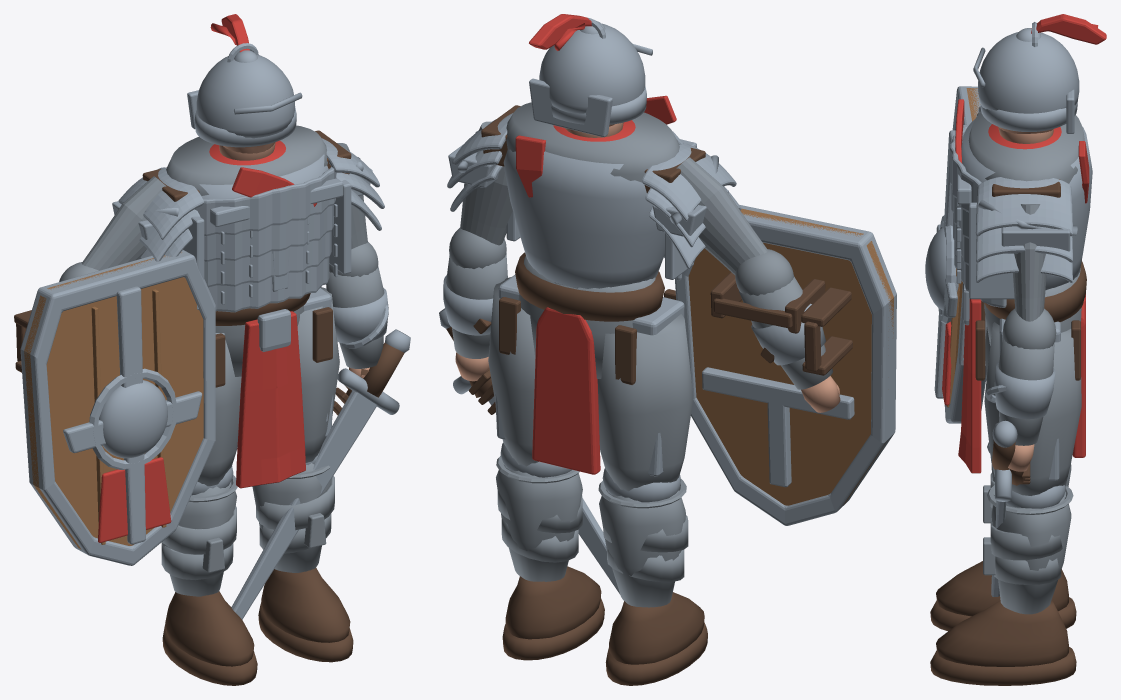
Rendered from SK_Infantry_A_v004_P035R3_L1Pose_Review.fbx.
3 views of the same model, side by side, from view 1: azimuth 30°, elevation 25°; view 2: azimuth 150°, elevation 25°; view 3: azimuth 270°, elevation 25° (orthographic). The views are drawn at different scales.
Visible parts, largest first — view 1: Shield, Shield_Rim, GEO_Infantry_WaistCloth_Front_P03R1, Helmet, Boot_R, Boot_L, Sword, Body_Base, Shield_Boss, ChestArmor_Lamellar_4, Shield_Reinforcement_V, Thigh_R (+40 smaller); view 2: Shield, ChestArmor, Shield_Rim, Thigh_L, WaistCloth_Rear_P02R1, Helmet, Calf_L, Body_Base, Calf_R, Thigh_R, Boot_R, Boot_L (+38 smaller); view 3: Helmet, Boot_R, Thigh_R, Body_Base, Calf_R, ShoulderArmor_R_1, BootSole_R, GEO_Infantry_WaistCloth_Front_P03R1, Boot_L, ChestArmor, Forearm_R, UpperArm_R (+45 smaller).
Boxes of the visible parts, x1,y1,x2,y2 form: Shield: (24,252,203,549); Shield_Rim: (20,250,215,565); GEO_Infantry_WaistCloth_Front_P03R1: (236,311,305,488); Helmet: (196,55,294,138); Boot_R: (261,568,350,642); Boot_L: (165,591,254,666); Sword: (231,390,377,619); Body_Base: (166,125,327,195); Shield_Boss: (99,380,167,458); ChestArmor_Lamellar_4: (195,167,336,236); Shield_Reinforcement_V: (116,286,145,544); Thigh_R: (297,287,339,462); Shield: (688,208,893,505); ChestArmor: (503,137,676,288); Shield_Rim: (675,205,896,525); Thigh_L: (597,314,693,491); WaistCloth_Rear_P02R1: (532,307,600,474); Helmet: (539,23,645,113); Calf_L: (599,489,685,607); Body_Base: (506,102,679,288); Calf_R: (496,465,582,581); Thigh_R: (488,277,538,466); Boot_R: (505,566,601,639); Boot_L: (609,592,704,664); Helmet: (978,32,1079,113); Boot_R: (936,600,1068,666); Thigh_R: (984,322,1081,495); Body_Base: (968,112,1084,183); Calf_R: (991,491,1071,614); ShoulderArmor_R_1: (975,177,1073,236); BootSole_R: (930,647,1076,685); GEO_Infantry_WaistCloth_Front_P03R1: (958,299,981,473); Boot_L: (936,561,1068,616); ChestArmor: (961,119,1092,290); Forearm_R: (998,337,1054,445); UpperArm_R: (1013,204,1046,321).
Size of the model in its own units: 1.27 by 1.85 by 0.4729.
